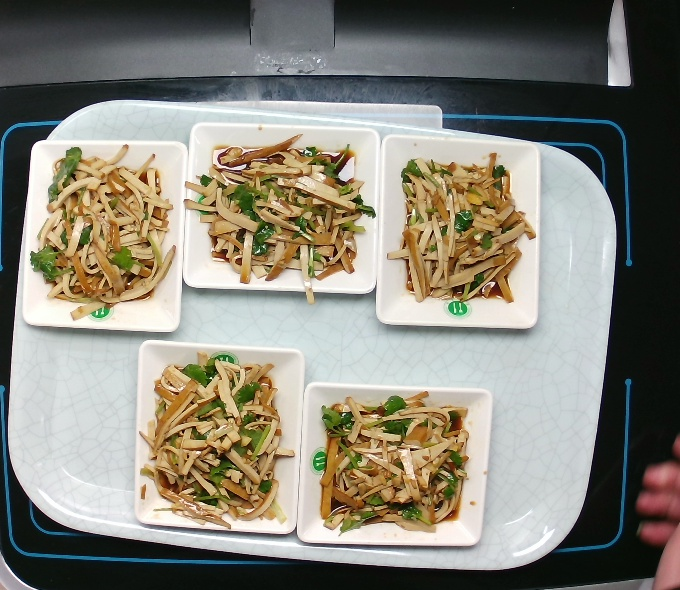wcq-LiangBanDouGan: (182, 128, 381, 302), (23, 140, 181, 328), (142, 351, 293, 530), (307, 385, 476, 539), (390, 148, 537, 309)
